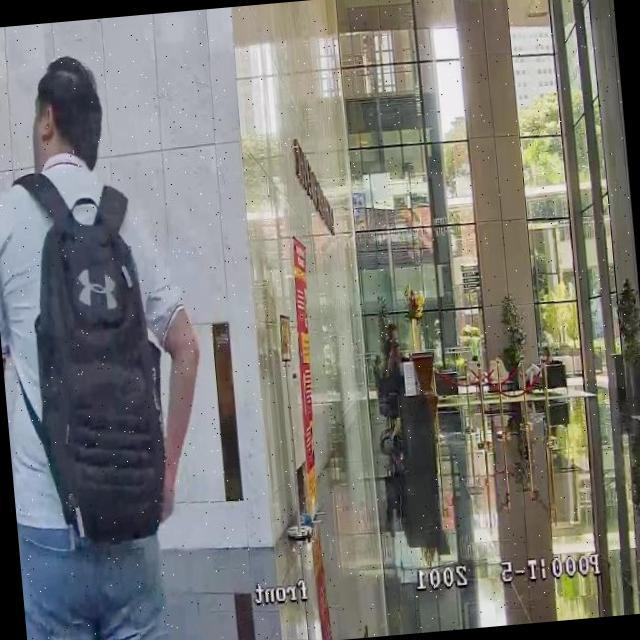person: (0, 45, 227, 640), (517, 343, 554, 393), (379, 342, 406, 400), (381, 322, 397, 352)
